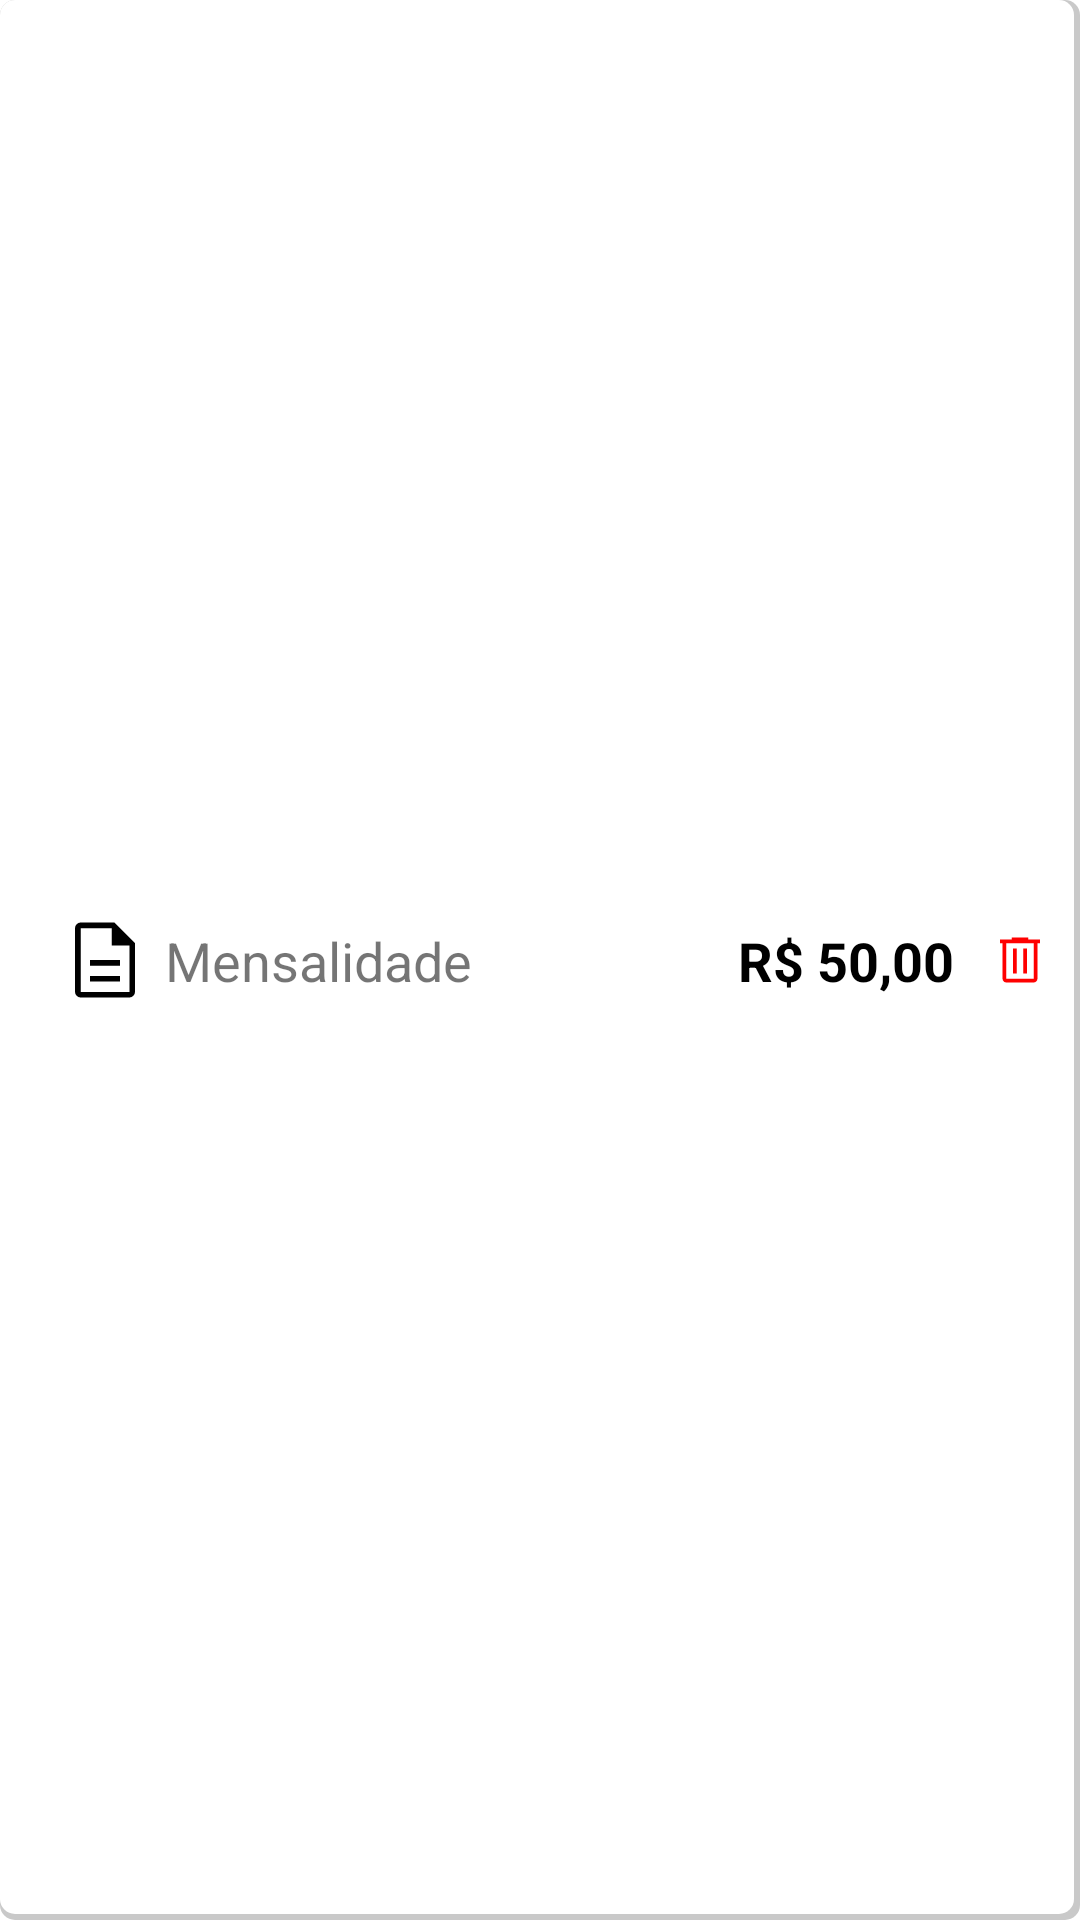

Icons on this 1080 x 1920 Android screen, each with the point to tap as [x,y]:
conta: [105,960]
delete: [1020,960]
